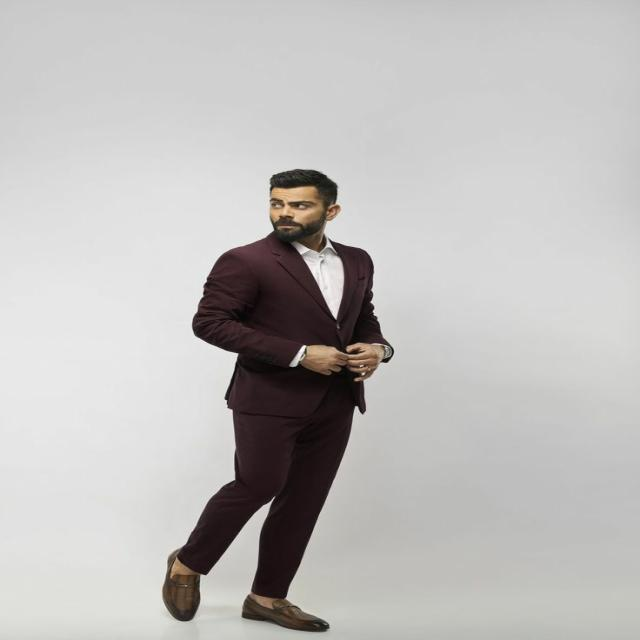male-dress: (212, 246, 378, 599)
